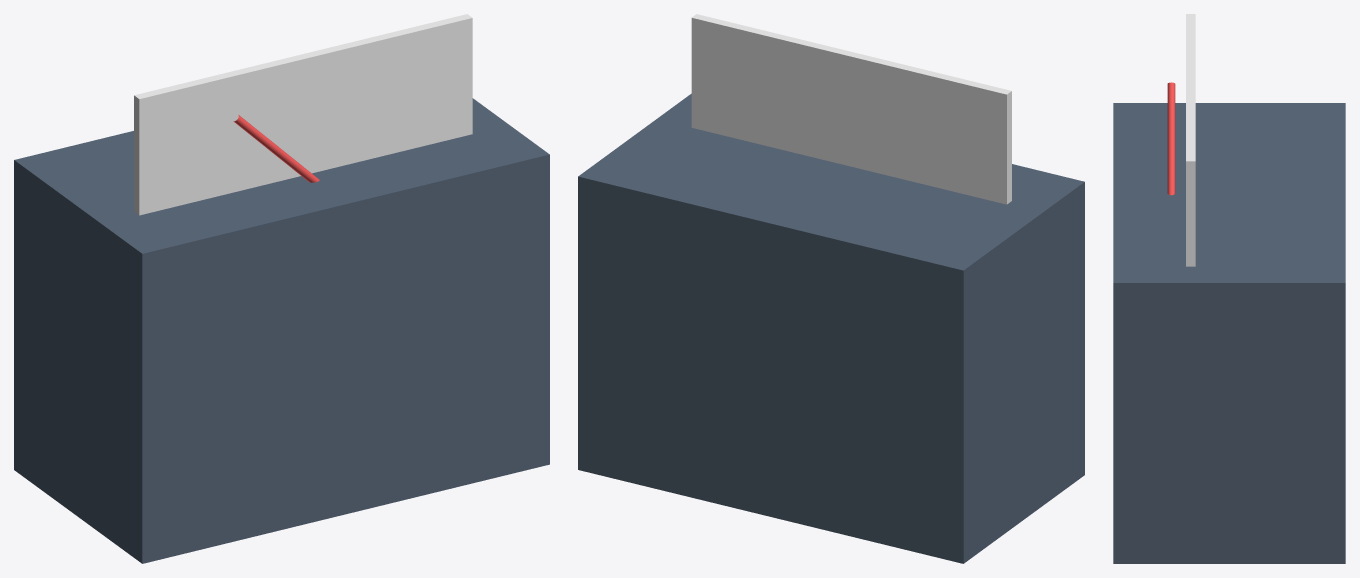
Rendered from electrical_measurements.glb.
3 views of the same model, side by side, from view 1: azimuth 30°, elevation 25°; view 2: azimuth 150°, elevation 25°; view 3: azimuth 270°, elevation 25° (orthographic). The views are drawn at different scales.
Visible parts, largest first — view 1: MeterHousingChassis, CalibratedScaleDial, PointerNeedleIndicator; view 2: MeterHousingChassis, CalibratedScaleDial; view 3: MeterHousingChassis, CalibratedScaleDial, PointerNeedleIndicator.
Boxes of the visible parts, <box> form: MeterHousingChassis: <box>14,98,549,563</box>; CalibratedScaleDial: <box>134,14,472,215</box>; PointerNeedleIndicator: <box>233,115,319,182</box>; MeterHousingChassis: <box>578,93,1084,563</box>; CalibratedScaleDial: <box>691,14,1011,204</box>; MeterHousingChassis: <box>1113,103,1345,563</box>; CalibratedScaleDial: <box>1186,14,1195,266</box>; PointerNeedleIndicator: <box>1167,82,1175,195</box>.
Bounding box in the file's own units: 2.2 × 2.2 × 1.2.
